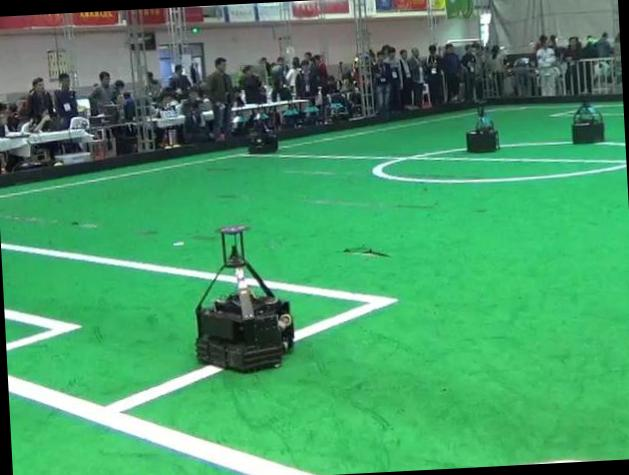robot: (195, 225, 292, 370), (465, 103, 498, 152), (570, 101, 603, 142), (247, 115, 277, 151)
